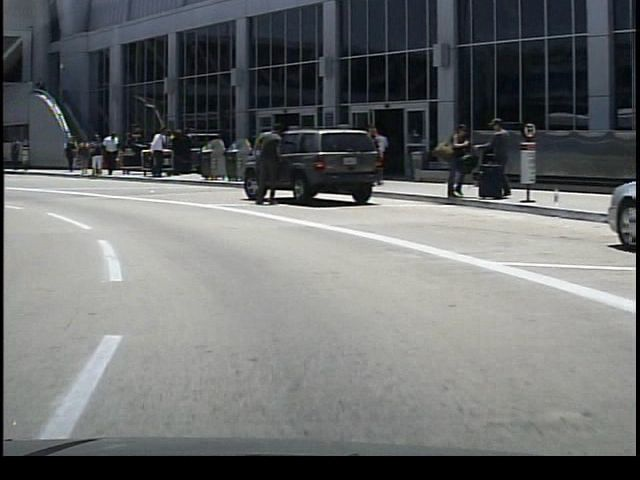person: (467, 114, 511, 199), (433, 117, 467, 202), (252, 115, 281, 210), (365, 122, 391, 186), (142, 125, 166, 181), (97, 129, 120, 179), (82, 132, 102, 181), (58, 133, 76, 176)
